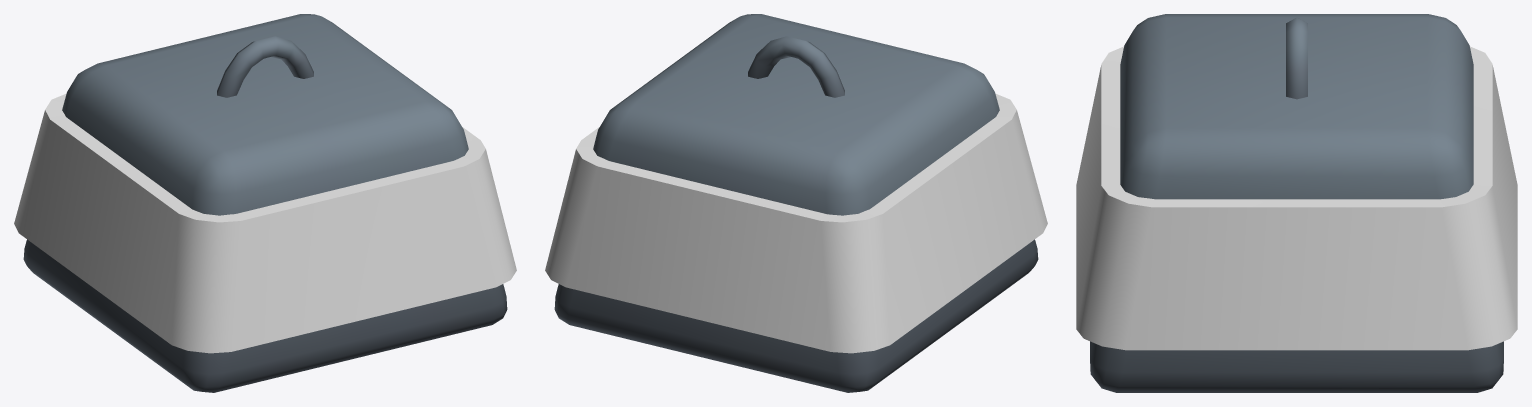
File: heavy.fbx
The picture shows the model from 3 angles, left to right: view 1: azimuth 30°, elevation 25°; view 2: azimuth 150°, elevation 25°; view 3: azimuth 270°, elevation 25°; orthographic projection. The views are drawn at different scales.
Visible parts, largest first — view 1: heavy_thing, heavy_Detail; view 2: heavy_thing, heavy_Detail; view 3: heavy_thing, heavy_Detail.
Part boxes in pixels (x1,y1,x2,y2): heavy_thing: (23, 14, 507, 392); heavy_Detail: (14, 93, 516, 353); heavy_thing: (554, 14, 1038, 392); heavy_Detail: (545, 93, 1047, 353); heavy_thing: (1090, 14, 1503, 392); heavy_Detail: (1076, 46, 1517, 350).
Bounding box in the file's own units: 1.03 × 0.7503 × 1.03.
